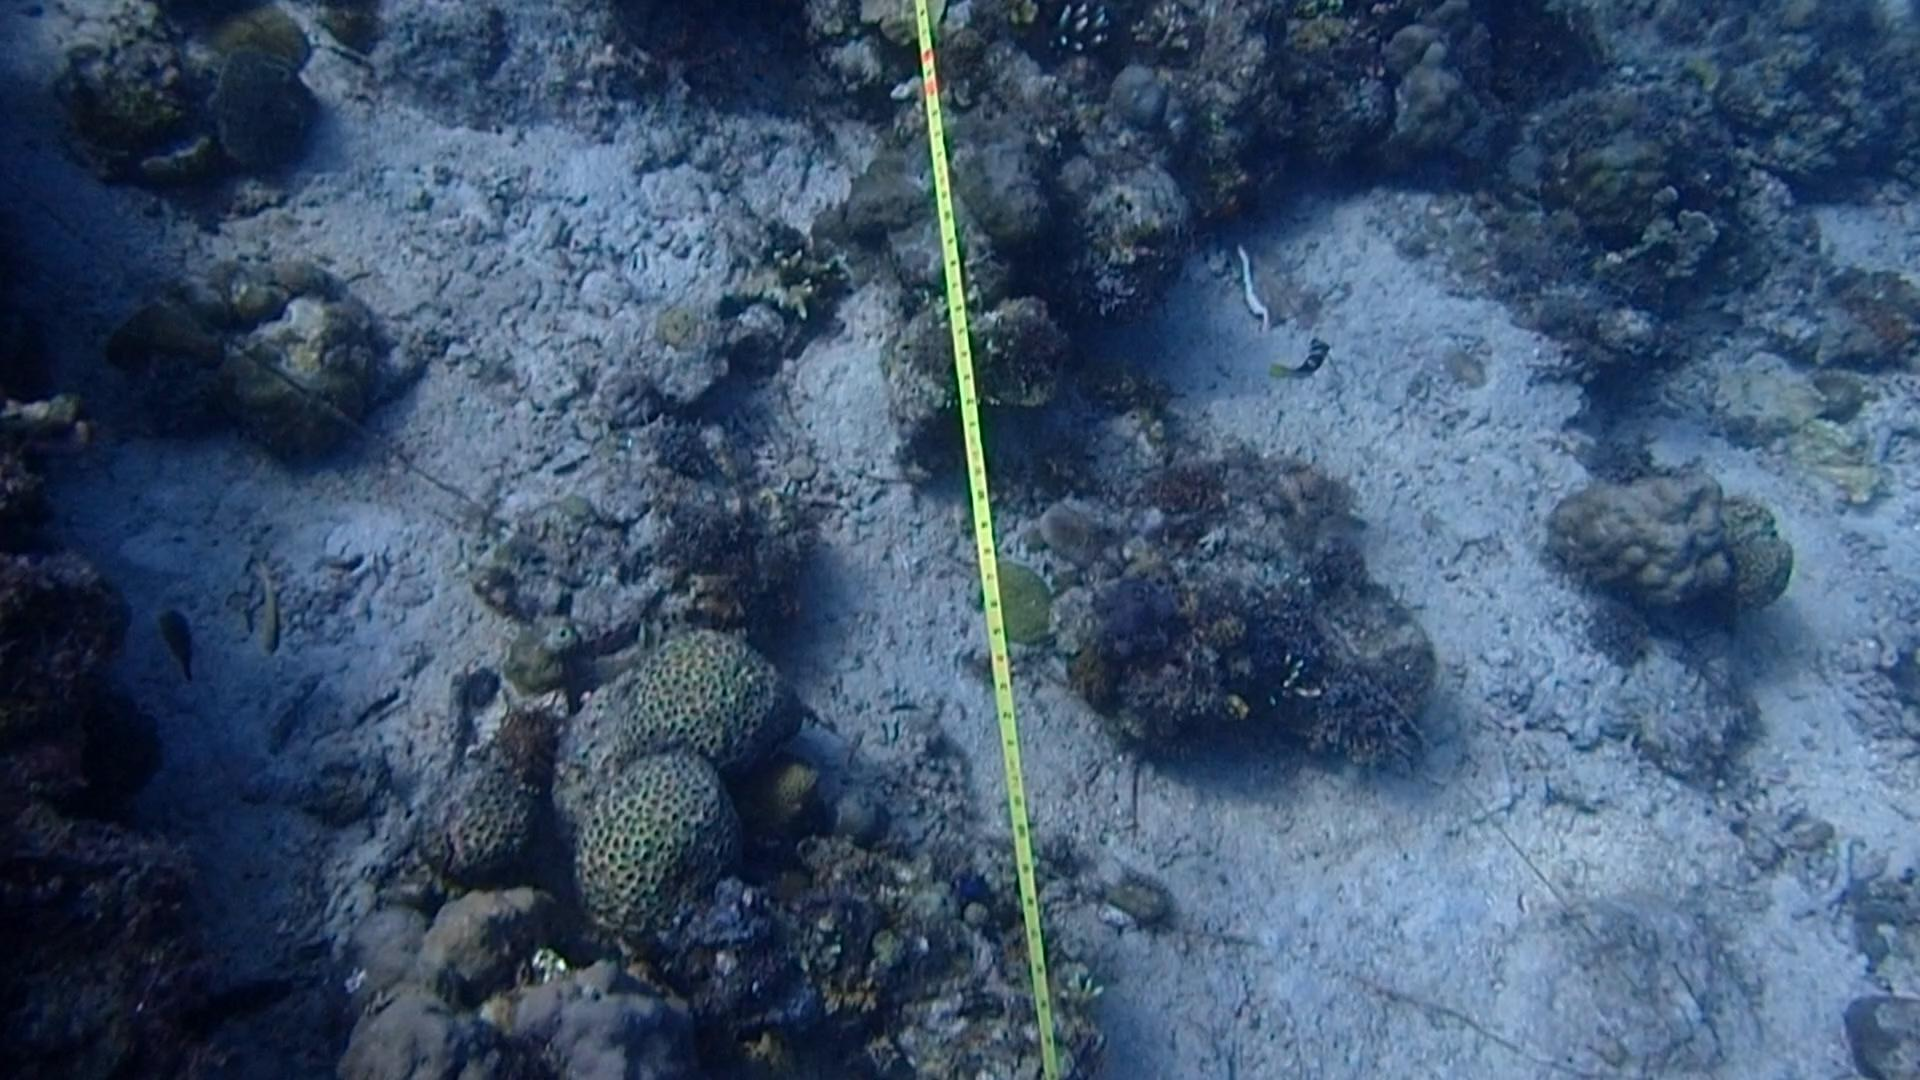Striped Fish: (1258, 331, 1337, 394)
